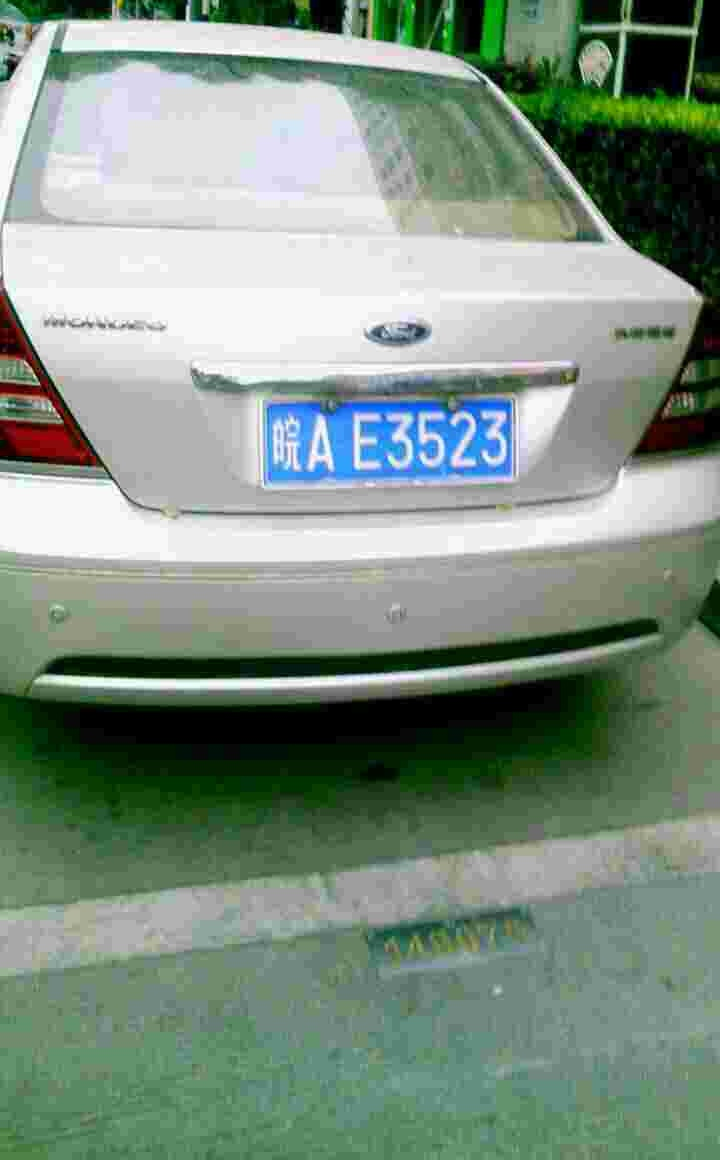license_plate: (249, 394, 524, 488)
